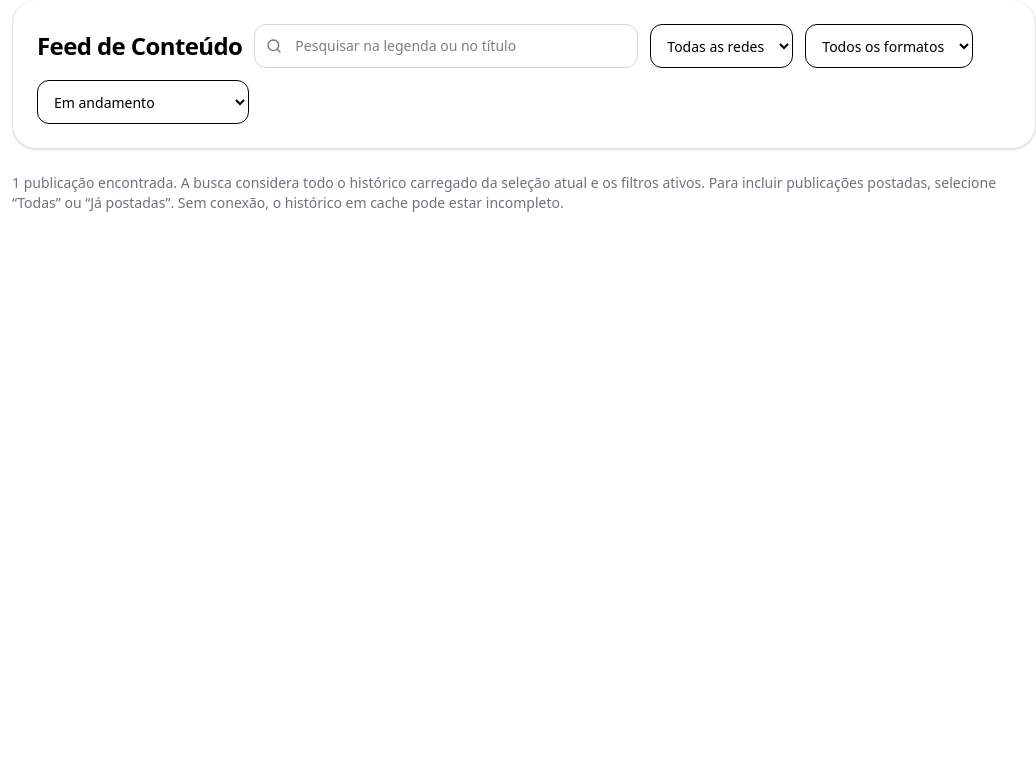
Test: pesquisa do Feed › combina busca com filtros e permite encontrar postadas
Type "PROMOCAO" into the search field named "Pesquisar publicações".
click(446, 46); type("PROMOCAO")  # box x1=254 y1=24 x2=638 y2=68
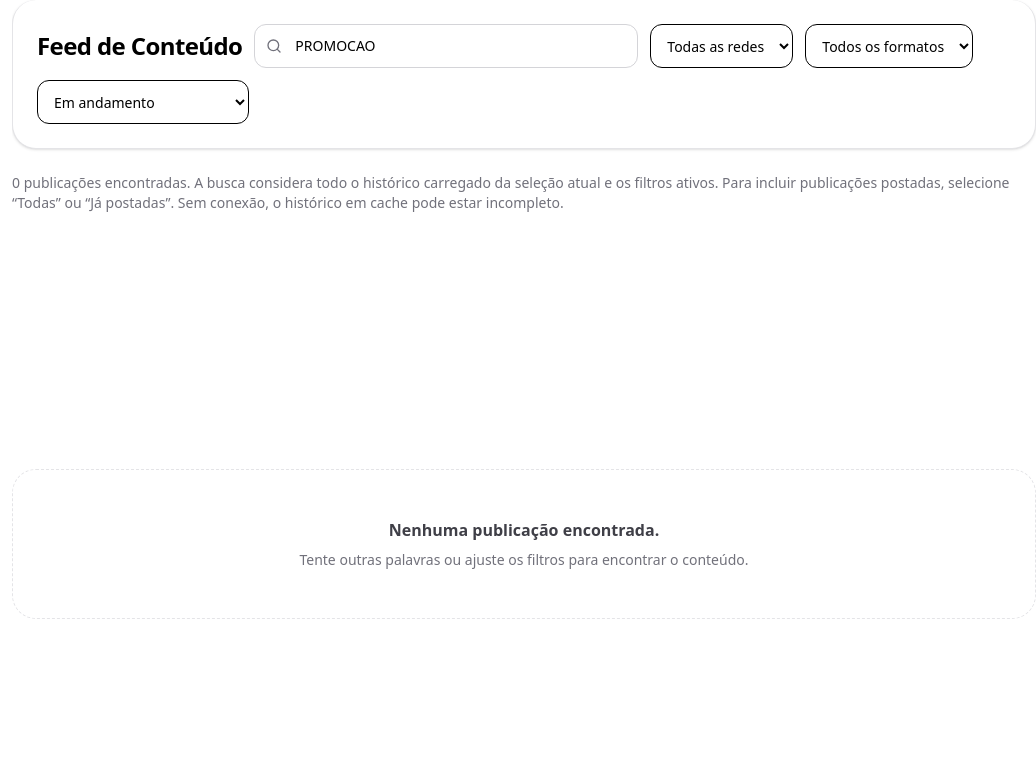
Now the text "Nenhuma publicação encontrada." is shown, box x1=389 y1=519 x2=659 y2=541
Select "Já postadas" in the dropdown named "Filtrar por status" at [143, 102], box x1=37 y1=80 x2=249 y2=124
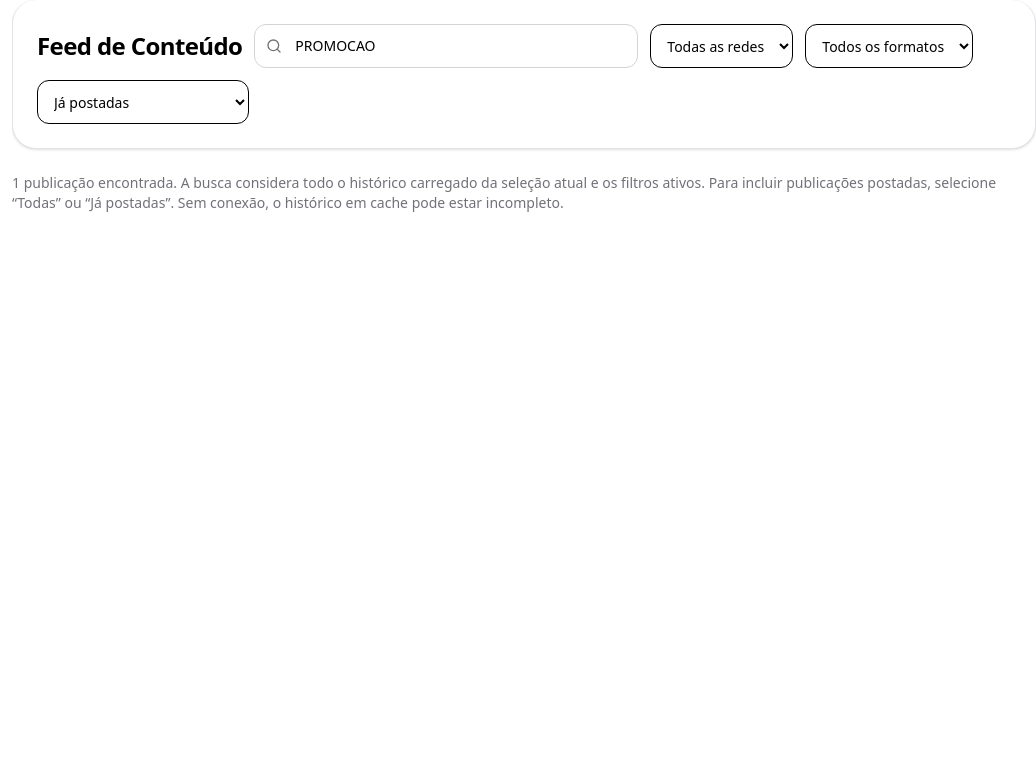
Select "facebook" in the dropdown named "Filtrar por rede social" at [722, 46], box x1=650 y1=24 x2=793 y2=68
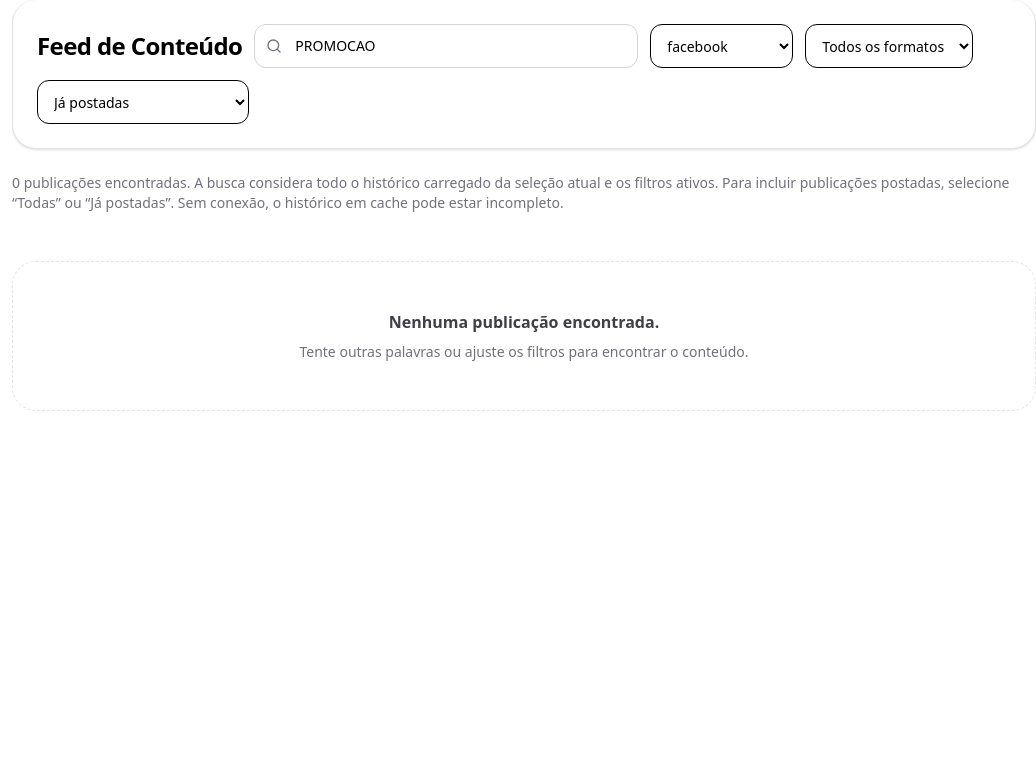
Now the text "Nenhuma publicação encontrada." is shown, box x1=389 y1=311 x2=659 y2=333
